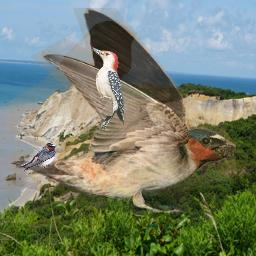Swallow: (9, 8, 236, 215), (21, 143, 56, 171)
Woodpecker: (90, 47, 124, 133)
